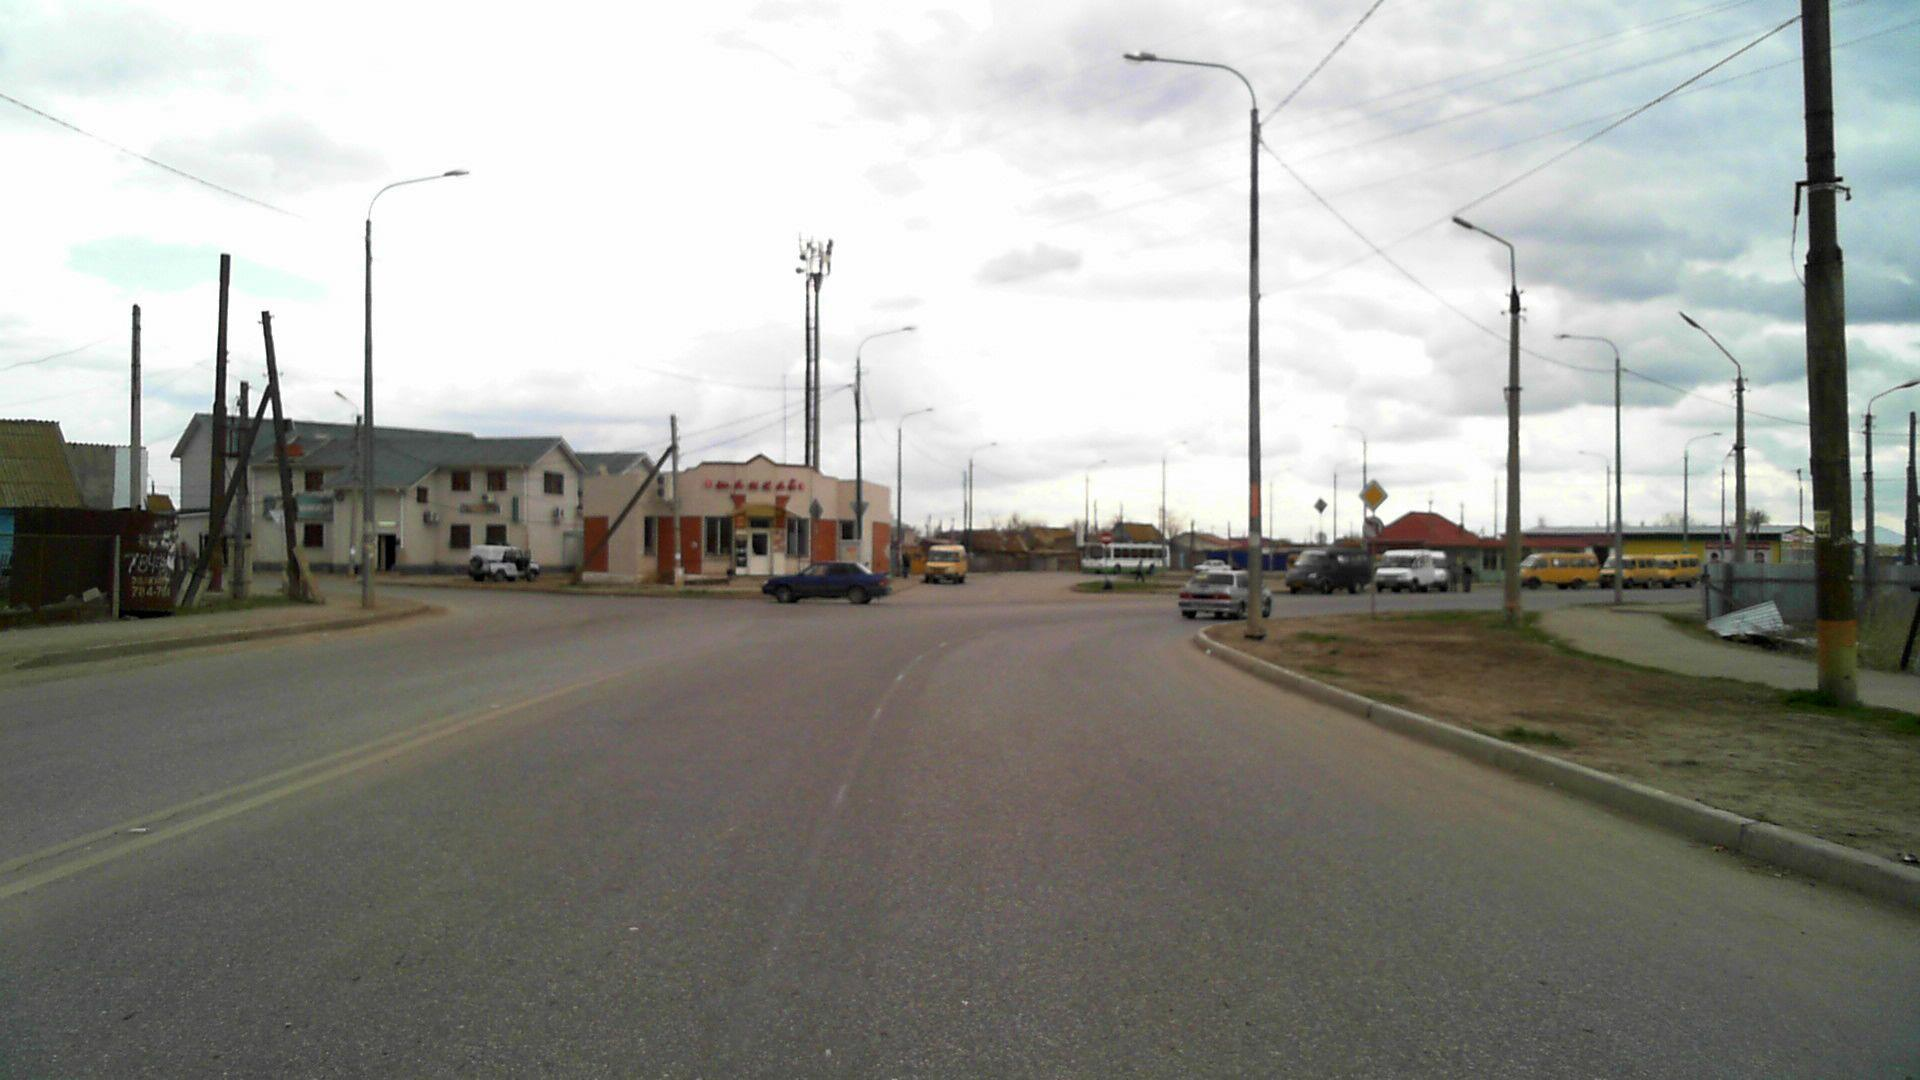2_1: (1358, 479, 1389, 510)
3_18_2: (1361, 514, 1386, 538)
